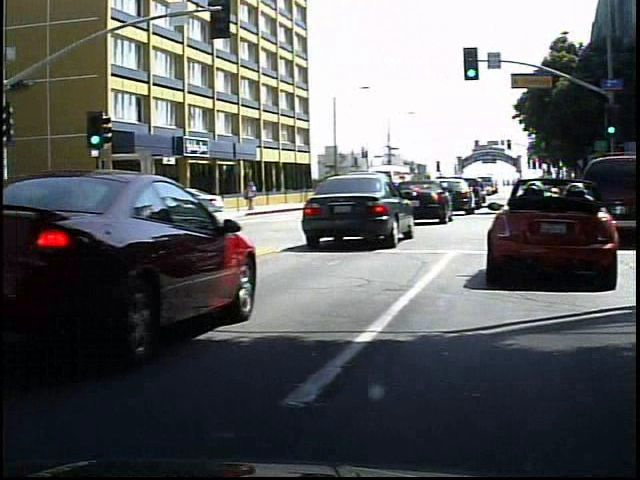person: (236, 177, 255, 215)
